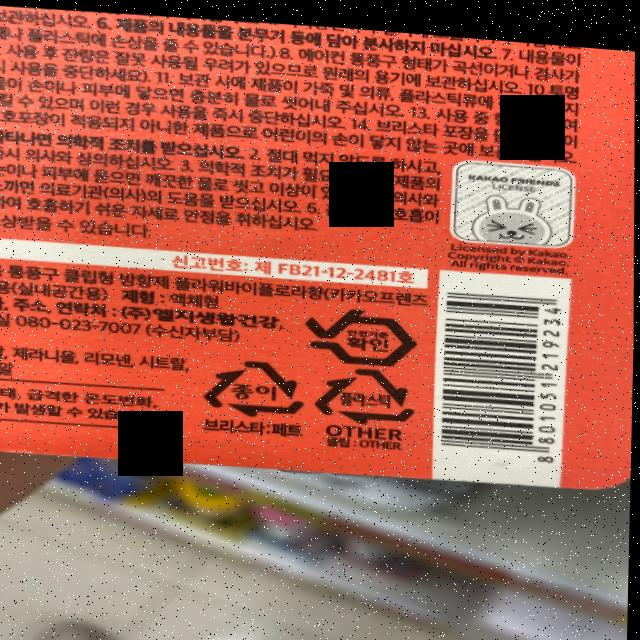Paper: (198, 348, 311, 419)
Plastic: (314, 355, 421, 421)
